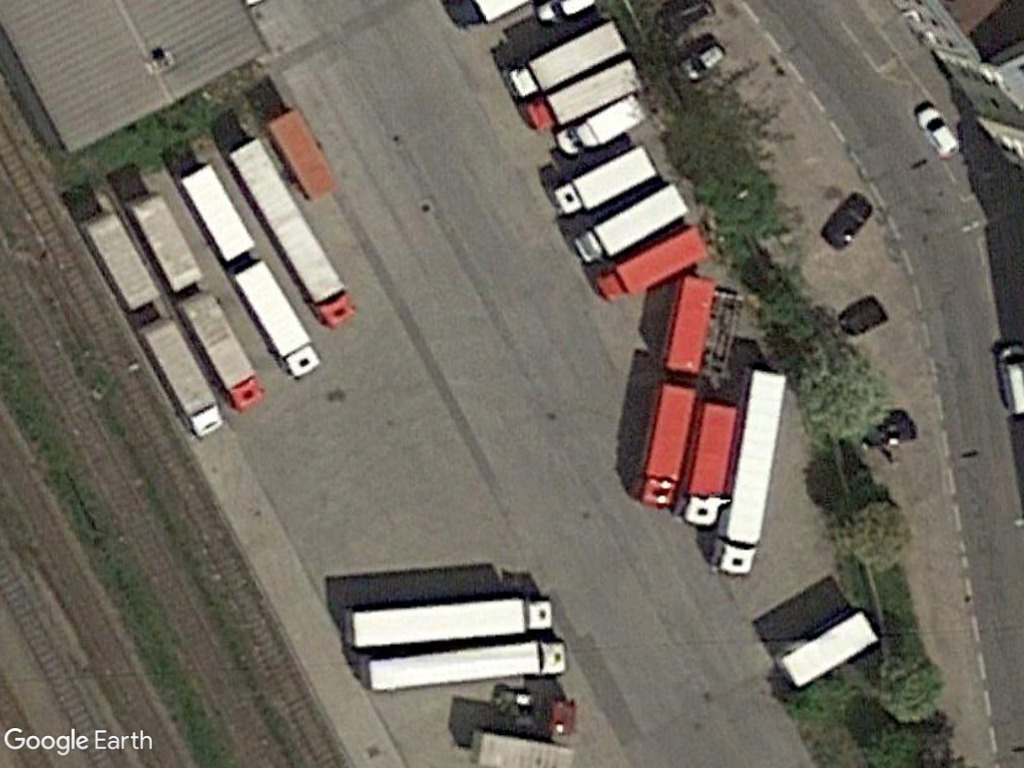car: (910, 98, 964, 163), (675, 36, 732, 86)
longvehicle: (226, 136, 362, 331), (712, 359, 794, 582), (349, 633, 574, 699), (335, 591, 559, 652)
truck: (169, 285, 269, 414), (134, 307, 230, 441), (570, 175, 694, 269), (228, 260, 322, 384), (500, 18, 633, 104), (590, 220, 717, 305), (517, 56, 651, 136), (543, 139, 659, 223), (629, 375, 700, 510), (677, 391, 739, 533), (554, 91, 648, 163)
